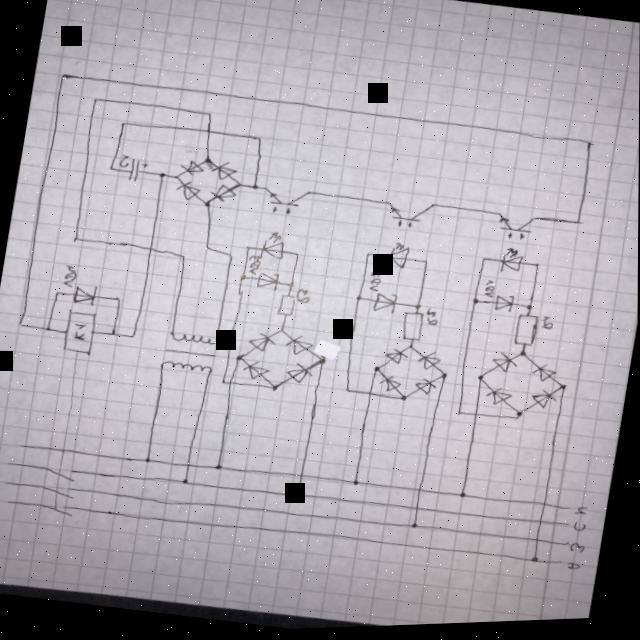capacitor: (126, 159, 149, 186)
crossover: (471, 412, 481, 424), (144, 246, 156, 256), (202, 129, 213, 139), (540, 502, 549, 514), (297, 473, 307, 483), (535, 521, 545, 530), (532, 540, 542, 549), (411, 508, 421, 517), (415, 490, 425, 499), (365, 391, 375, 400), (185, 463, 195, 472), (225, 380, 235, 389)
diode: (283, 335, 316, 360), (489, 354, 520, 380), (285, 363, 314, 388), (529, 392, 559, 416), (247, 333, 277, 356), (208, 184, 238, 207), (371, 294, 398, 319), (71, 284, 98, 309), (415, 352, 442, 376), (174, 181, 201, 205), (242, 361, 271, 383), (209, 162, 238, 184), (531, 366, 558, 389), (485, 390, 513, 412), (178, 160, 206, 180), (255, 273, 280, 295), (382, 350, 409, 370), (377, 377, 403, 397), (414, 381, 438, 401), (494, 297, 514, 318)
junction: (513, 414, 525, 425), (528, 559, 540, 569), (202, 245, 214, 254), (557, 387, 568, 396), (476, 378, 487, 387), (409, 525, 420, 534), (351, 481, 362, 490), (142, 457, 153, 466), (317, 359, 328, 368), (399, 397, 410, 406), (439, 374, 450, 383), (15, 321, 26, 330), (58, 72, 69, 81), (233, 183, 244, 192), (254, 136, 265, 145), (238, 275, 249, 284), (583, 144, 594, 153), (574, 223, 585, 232), (529, 218, 540, 227), (276, 328, 288, 336), (127, 334, 139, 342), (517, 354, 528, 362), (458, 494, 469, 502), (294, 493, 305, 501), (213, 465, 224, 473), (181, 479, 192, 487), (268, 386, 279, 394), (234, 356, 245, 364), (343, 388, 354, 396), (372, 368, 383, 376), (407, 345, 418, 353), (413, 305, 424, 313), (353, 297, 364, 305), (362, 252, 373, 260), (420, 261, 431, 269), (107, 331, 118, 339), (113, 296, 124, 304), (52, 290, 63, 298), (43, 326, 54, 334), (71, 236, 82, 244), (176, 255, 187, 263), (226, 254, 237, 262), (89, 96, 100, 104), (203, 112, 214, 120), (118, 122, 129, 130), (107, 166, 118, 174), (155, 173, 166, 181), (172, 175, 183, 183), (202, 202, 213, 210), (203, 159, 214, 167), (249, 185, 260, 193), (302, 192, 313, 200), (260, 187, 271, 195), (291, 254, 302, 262), (243, 245, 254, 253), (285, 284, 296, 292), (382, 202, 393, 210), (429, 205, 440, 213), (531, 265, 542, 273), (478, 259, 489, 267), (470, 301, 481, 309), (524, 307, 535, 315), (454, 414, 465, 422), (492, 212, 503, 220), (219, 380, 228, 387)
resistor: (513, 317, 541, 353), (401, 313, 425, 346), (276, 296, 295, 320)
switch: (42, 464, 80, 485), (39, 483, 77, 502), (41, 500, 76, 519)
terminal: (3, 497, 16, 506), (3, 479, 16, 488), (15, 442, 27, 450), (5, 461, 15, 468), (555, 563, 564, 570), (561, 545, 570, 552), (564, 525, 573, 532), (565, 508, 574, 515)
text: (69, 322, 90, 344), (61, 265, 78, 291), (367, 272, 382, 297), (245, 256, 262, 278), (424, 310, 441, 330), (482, 282, 497, 302), (294, 290, 311, 307), (540, 319, 555, 335), (117, 154, 131, 171), (569, 546, 586, 559), (567, 565, 583, 576), (572, 526, 587, 537), (573, 510, 588, 521)
transformer: (159, 329, 221, 380)
